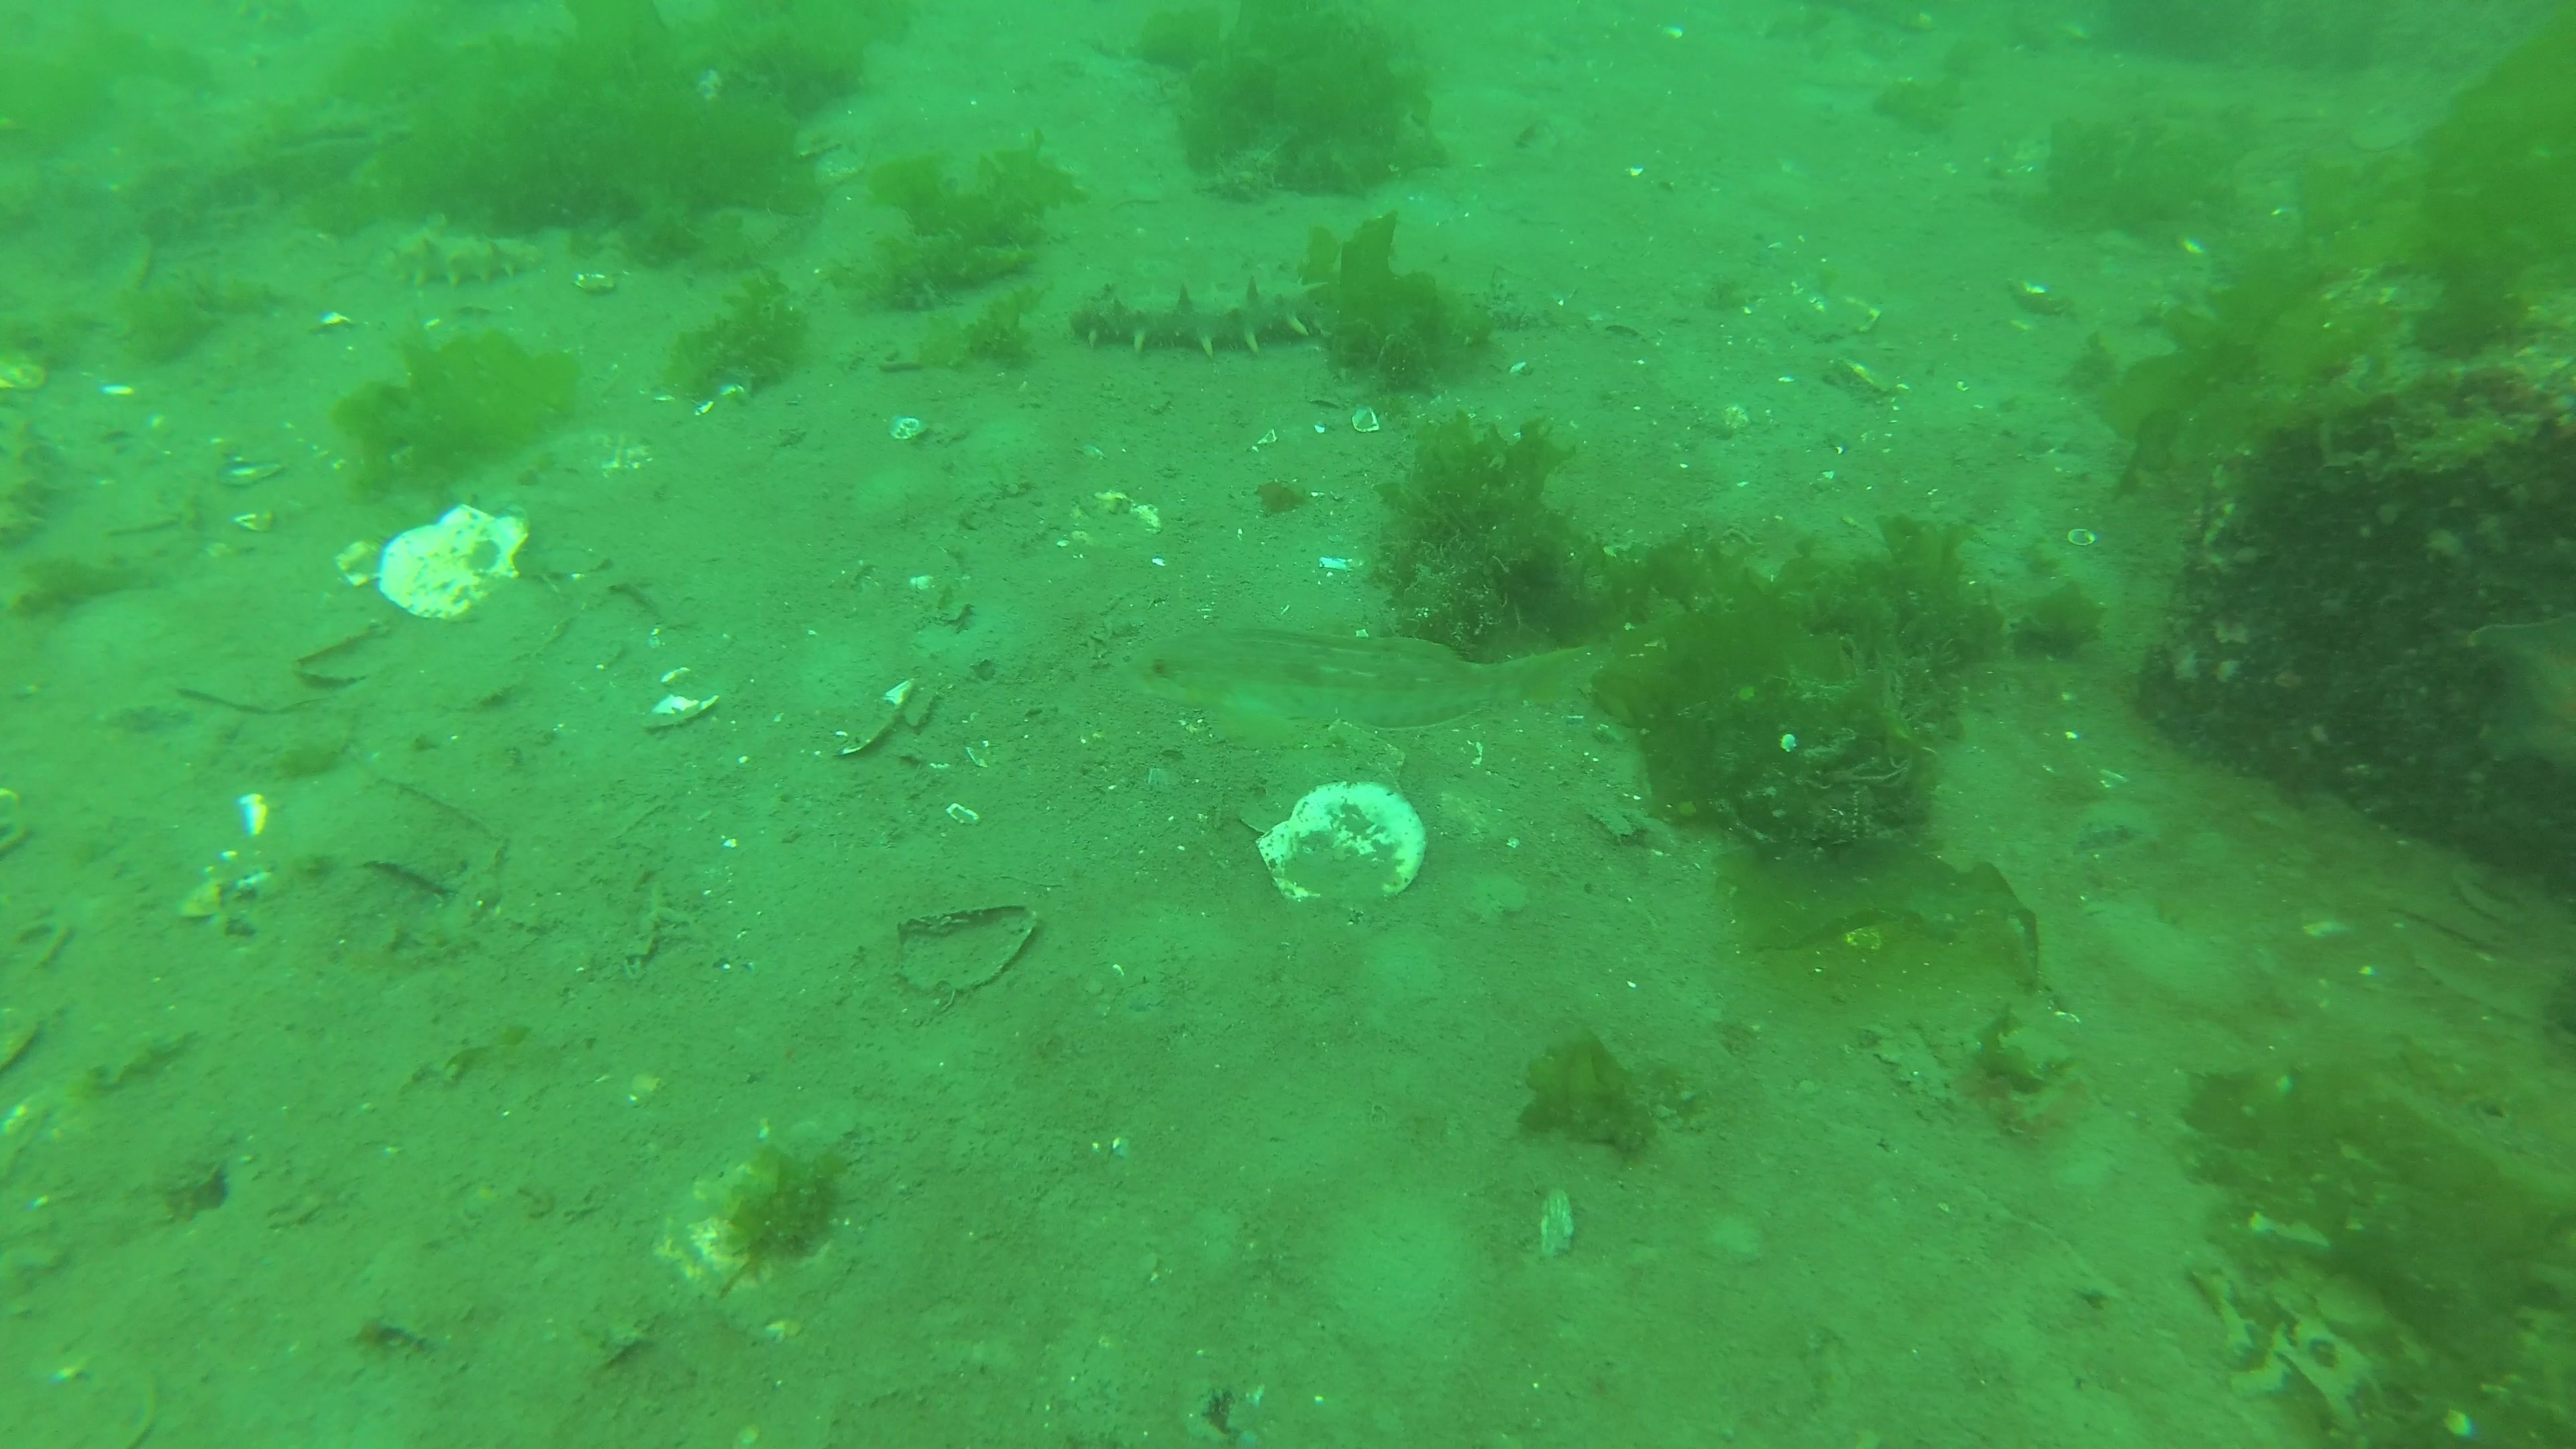holothurian: (1067, 272, 1332, 357), (384, 223, 552, 292), (0, 418, 73, 548), (239, 0, 311, 34)
scallop: (1253, 777, 1430, 908), (377, 504, 534, 623)
